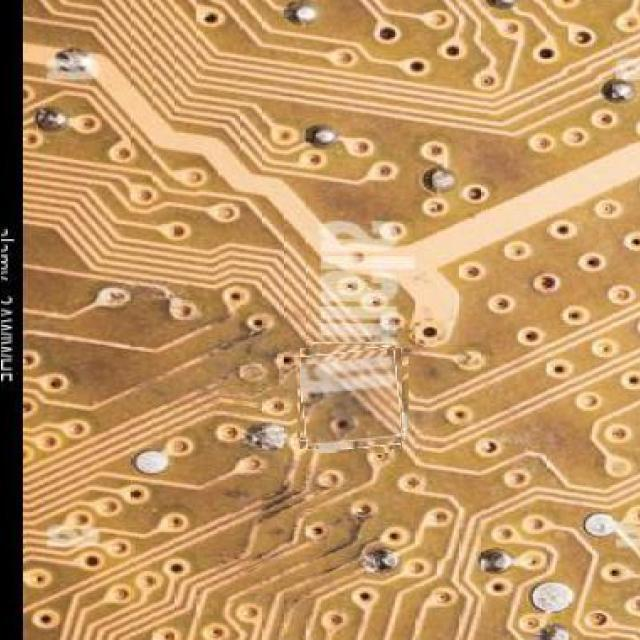damged: (300, 348, 402, 449)
